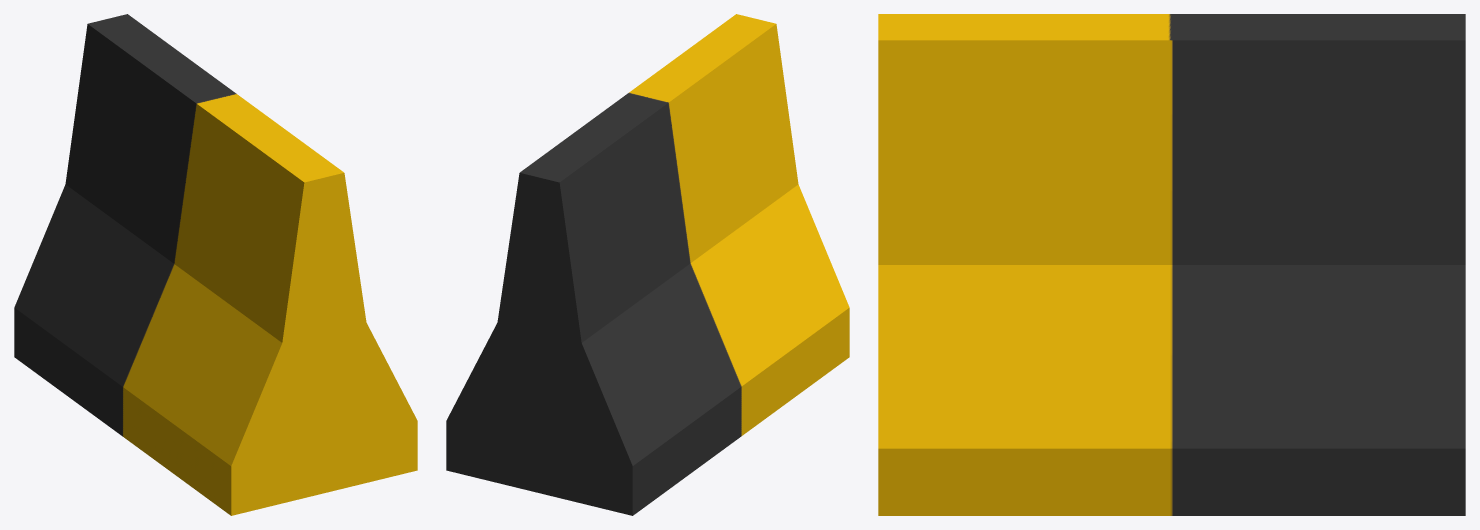
The model's file is divider.fbx.
3 views of the same model, side by side, from view 1: azimuth 30°, elevation 25°; view 2: azimuth 150°, elevation 25°; view 3: azimuth 270°, elevation 25° (orthographic). The views are drawn at different scales.
Parts seen in each view (by area): view 1: Road_Divider; view 2: Road_Divider; view 3: Road_Divider.
Boxes of the visible parts, x1,y1,x2,y2 form: Road_Divider: [14, 14, 417, 515]; Road_Divider: [446, 14, 849, 515]; Road_Divider: [878, 14, 1465, 515].
Bounding box in the file's own units: 3.92 × 6.35 × 7.91.
